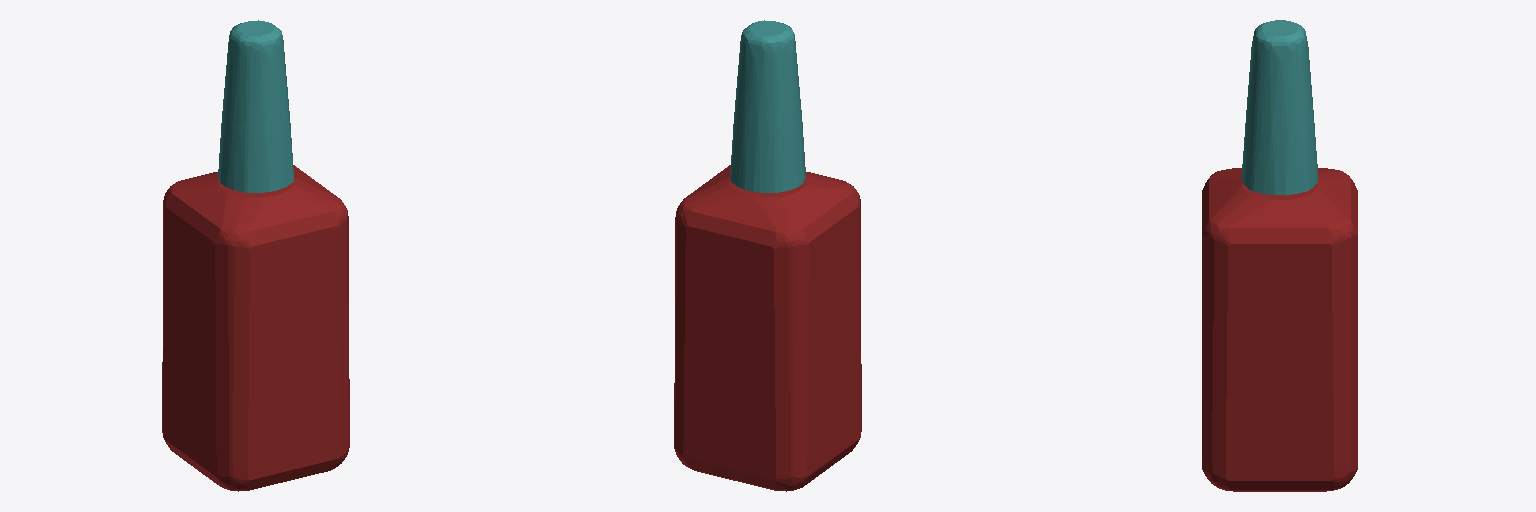
The robot description file, URDF, robot "root":
<robot name="root">
  <link name="bottle_body">
    <inertial>
      <origin xyz="0 0 0" rpy="0 0 0"/>
    </inertial>
    <mass value="1.00E-02"/>
    <visual>
      <origin xyz="0 0 0" rpy="0 0 0"/>
      <geometry>
        <mesh filename="core-bottle-dacc6638cd62d82f42ebc0504c999b-coacd_convex_piece_1.obj" scale="1.0000E-01 1.0000E-01 1.0000E-01"/>
      </geometry>
      <material name="">
        <color rgba="6.00E-01 2.00E-01 2.00E-01 1"/>
      </material>
    </visual>
    <collision>
      <origin xyz="0 0 0" rpy="0 0 0"/>
      <geometry>
        <mesh filename="core-bottle-dacc6638cd62d82f42ebc0504c999b-coacd_convex_piece_1.obj" scale="1.0000E-01 1.0000E-01 1.0000E-01"/>
      </geometry>
    </collision>
  </link>
  <link name="bottle_cap">
    <origin xyz="0 0 0.002" rpy="0 0 0"/>
    <mass value="1.00E-02"/>
    <visual>
      <origin xyz="0 0 0.002" rpy="0 0 0"/>
      <geometry>
        <mesh filename="core-bottle-dacc6638cd62d82f42ebc0504c999b-coacd_convex_piece_0.obj" scale="1.0000E-01 1.0000E-01 1.0000E-01"/>
      </geometry>
      <material name="">
        <color rgba="3.00E-01 6.00E-01 6.00E-01 1"/>
      </material>
    </visual>
    <collision>
      <origin xyz="0 0 0.002" rpy="0 0 0"/>
      <geometry>
        <mesh filename="core-bottle-dacc6638cd62d82f42ebc0504c999b-coacd_convex_piece_0.obj" scale="1.0000E-01 1.0000E-01 1.0000E-01"/>
      </geometry>
    </collision>
  </link>
  <joint name="bottle_cap_joint" type="revolute">
    <origin xyz="0 0 0" rpy="0 0 0"/>
    <parent link="bottle_body"/>
    <child link="bottle_cap"/>
    <axis xyz="0 0 1"/>
    <limit lower="0.00" upper="6.28"/>
    <dynamics damping="0.05"/>
  </joint>
</robot>

--- Render facts (derived) ---
Views: 3 orthographic renders of the robot side by side, from view 1: azimuth 30°, elevation 25°; view 2: azimuth 150°, elevation 25°; view 3: azimuth 270°, elevation 25°.
Robot: root — 2 links, 1 joints (1 revolute); root link bottle_body; default pose: all joints at 0.
Visible links, largest first — view 1: bottle_body, bottle_cap; view 2: bottle_body, bottle_cap; view 3: bottle_body, bottle_cap.
Link boxes in pixels (box(x1,y1,x2,y2)): bottle_body: box(162, 165, 349, 491); bottle_cap: box(218, 20, 293, 192); bottle_body: box(674, 165, 861, 491); bottle_cap: box(730, 20, 805, 192); bottle_body: box(1202, 168, 1357, 491); bottle_cap: box(1242, 20, 1317, 194).
Size in the robot's own frame: 0.0603 by 0.0603 by 0.1869 metres.
Meshes: 2 distinct files referenced, 2 mesh visuals loaded (2 OBJ).